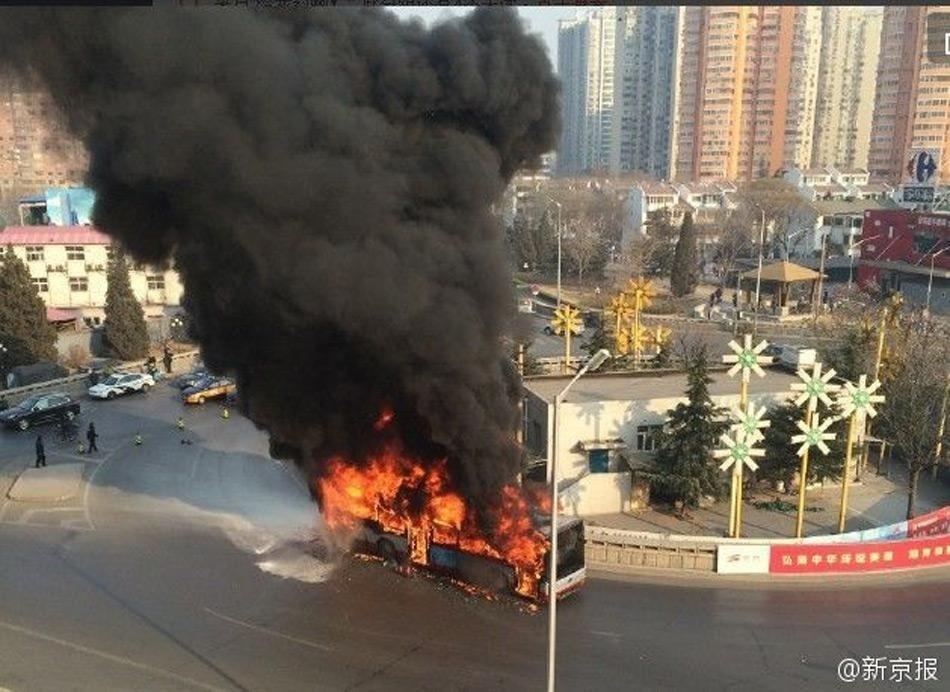fire: (316, 425, 554, 605)
